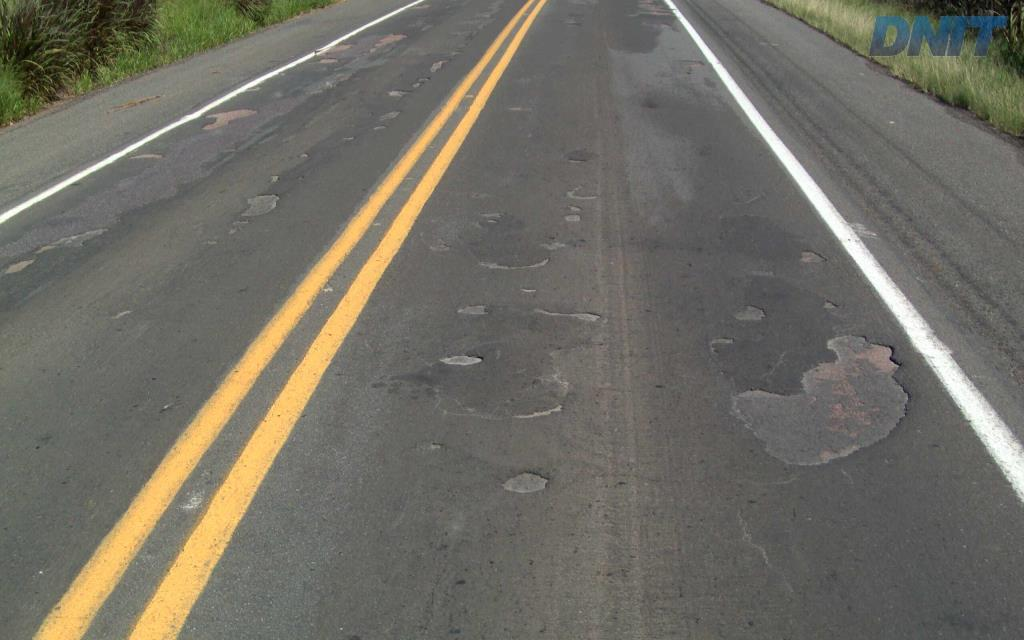pothole: (726, 321, 913, 476), (488, 461, 564, 503), (524, 305, 605, 328), (425, 347, 495, 371), (725, 298, 778, 328), (504, 401, 575, 423), (442, 301, 499, 323), (789, 240, 832, 269), (476, 256, 553, 272), (698, 335, 738, 358), (560, 181, 602, 200), (809, 296, 845, 314), (556, 214, 584, 227), (564, 202, 583, 212)
